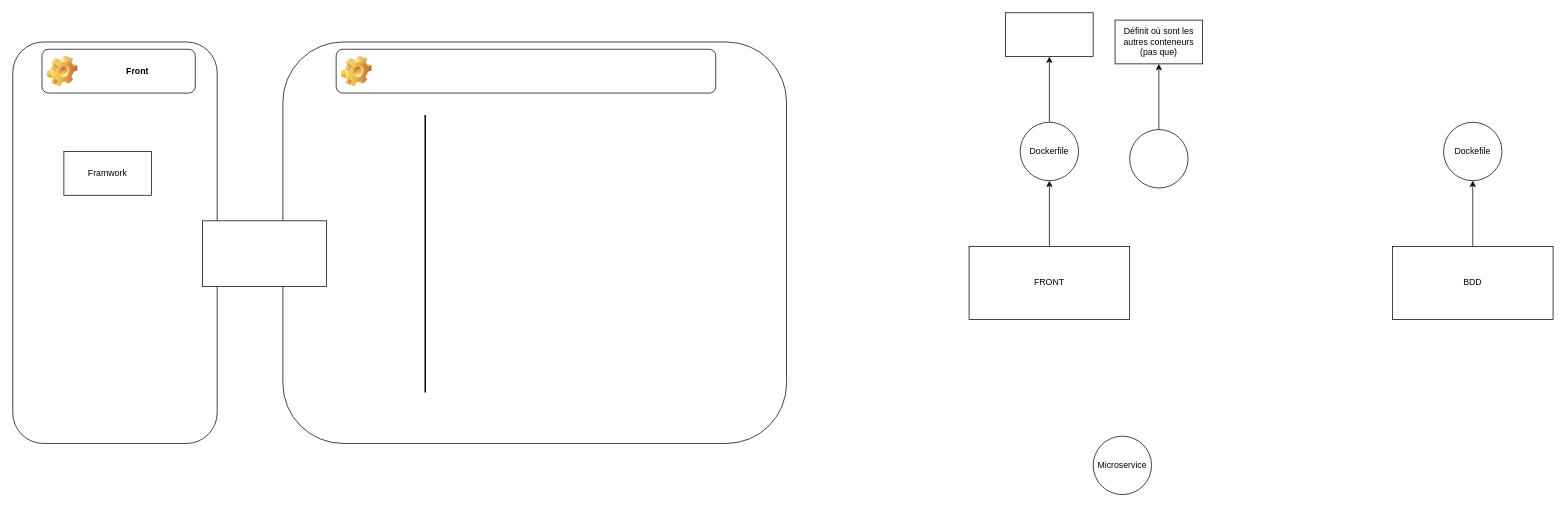
Image size: 1566x507. Some labels were removed from this diagram. The shapes that lost their labels are listed below. From the top down, each one's box as (x1, y1, x2, y2) in pixels, then its label:
(1005, 12, 1093, 57): Permet de configurer et install tout ce qu'il faut sur l'image
(335, 49, 716, 93): Back
(1129, 129, 1188, 188): Docker compose
(202, 220, 327, 287): API
